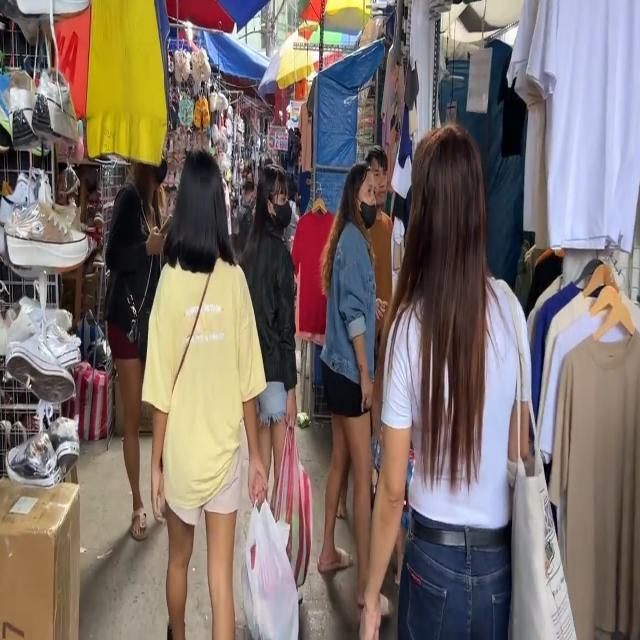hairnet: (356, 178, 376, 225)
